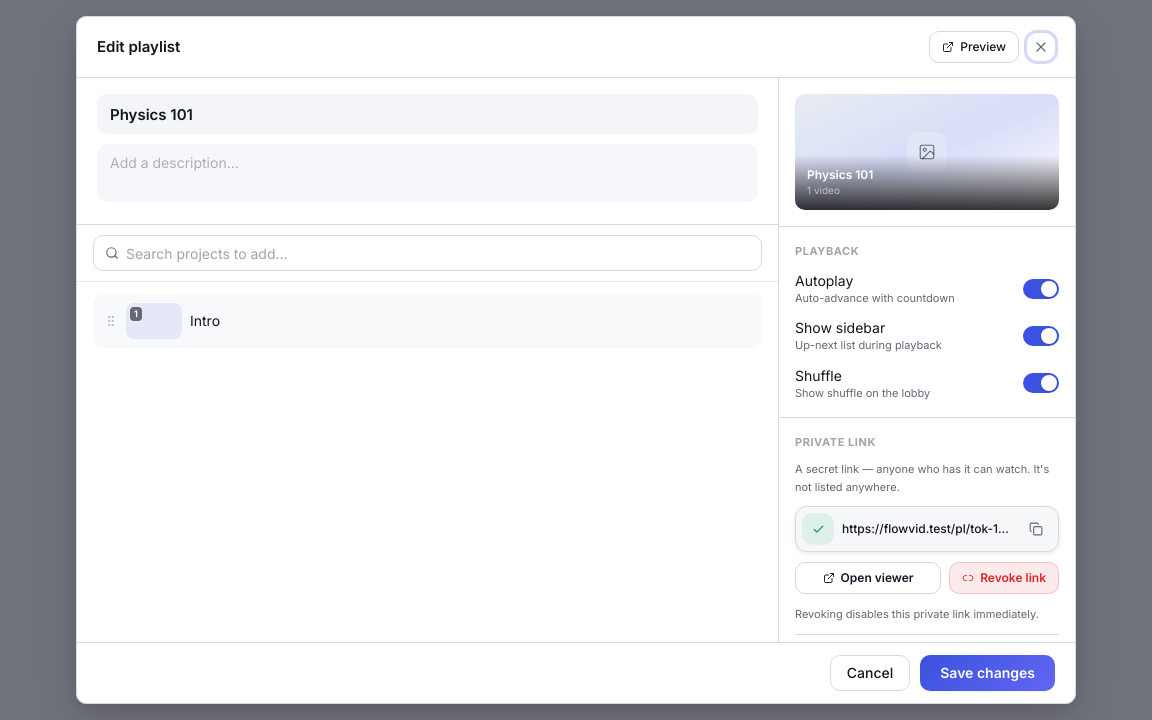
Test: playlist editor — Revoke link › reports the failure and leaves the still-live link on screen
Click the button "Revoke link" at {"x": 1004, "y": 578}, box [949,562,1059,594]
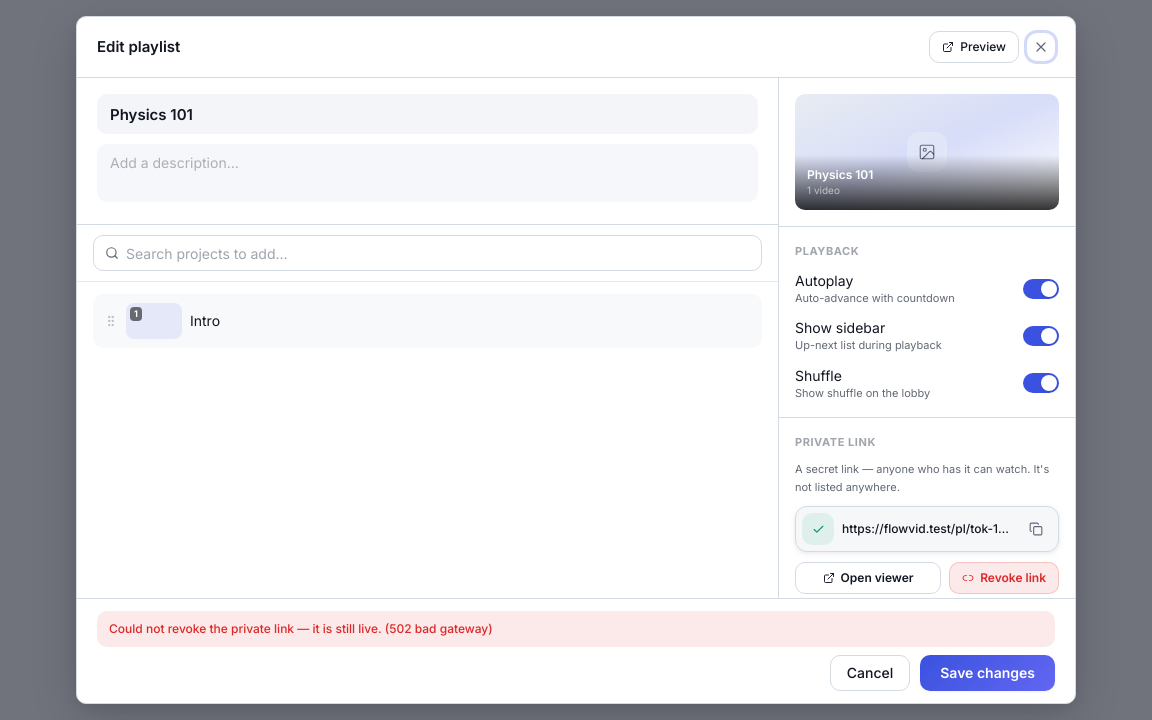
Expected: the text titled "https://flowvid.test/pl/tok-123" is shown, [842,521,1012,537]
Result: the message reads "Could not revoke the private link — it is still live. (502 bad gateway)" at [109,621,493,636]
Result: the message shows "502 bad gateway" at [109,621,493,636]
